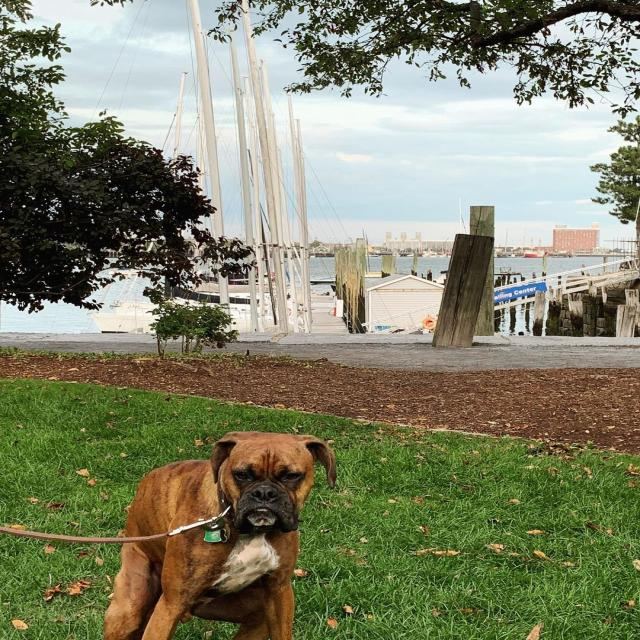squatting: (90, 422, 352, 640)
